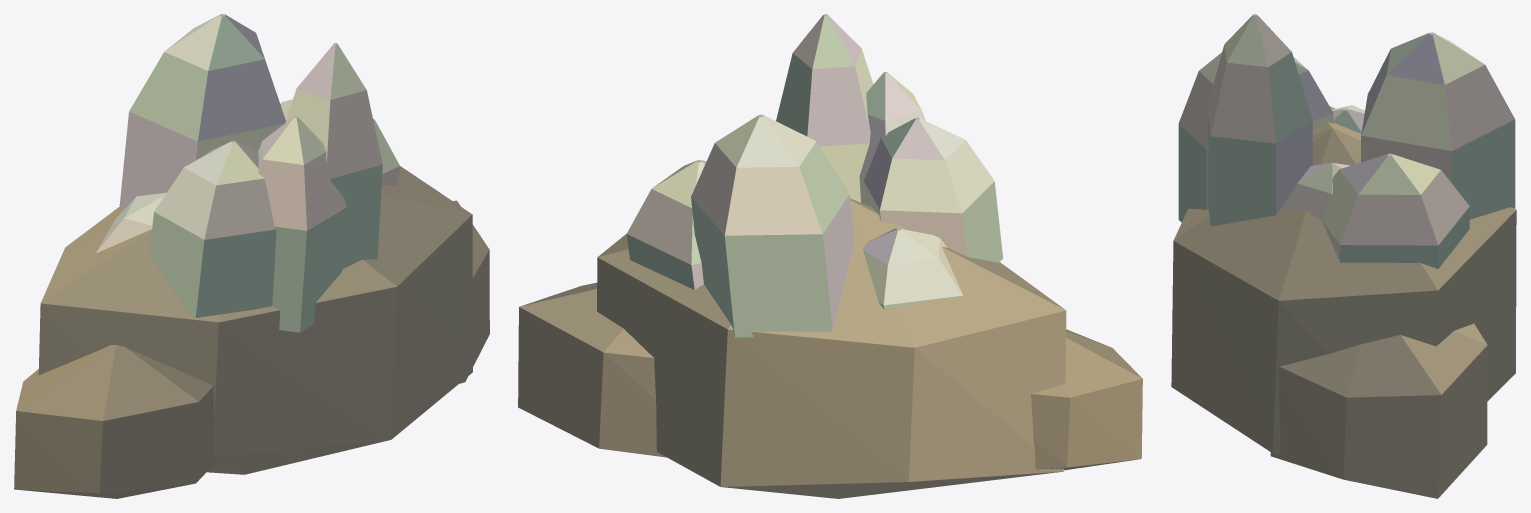
The model's file is extension_node_14.glb.
The picture shows the model from 3 angles, left to right: view 1: azimuth 30°, elevation 25°; view 2: azimuth 150°, elevation 25°; view 3: azimuth 270°, elevation 25°; orthographic projection.
Parts seen in each view (by area): view 1: extension_node_14; view 2: extension_node_14; view 3: extension_node_14.
Boxes of the visible parts, box(x1,y1,x2,y2) form: extension_node_14: box(14, 14, 489, 498); extension_node_14: box(518, 14, 1142, 498); extension_node_14: box(1171, 14, 1516, 498).
Bounding box in the file's own units: 1.61 × 1.28 × 0.9005.
